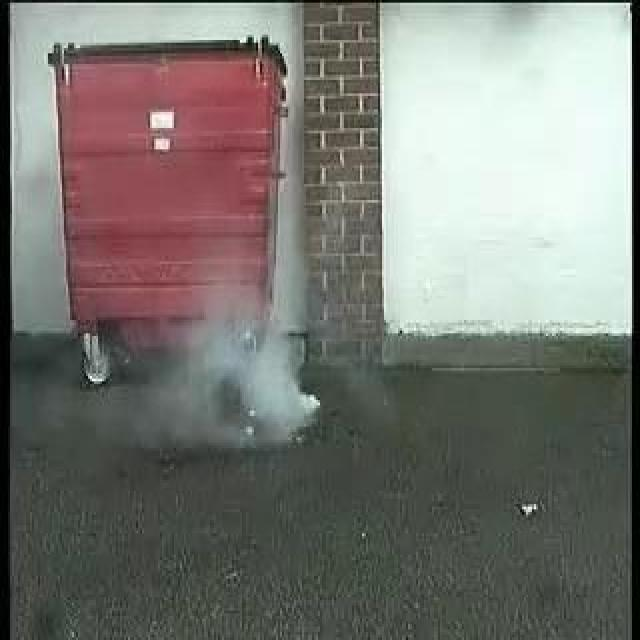Smoke: (143, 325, 321, 448)
